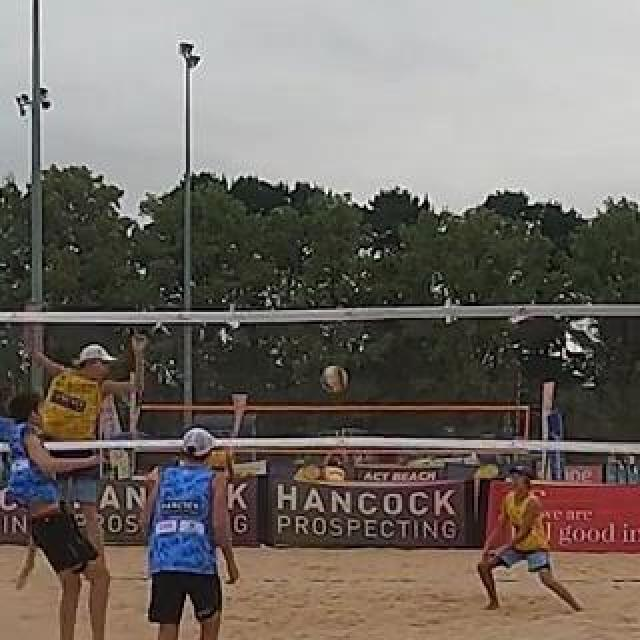volleyball: (320, 366, 348, 394)
